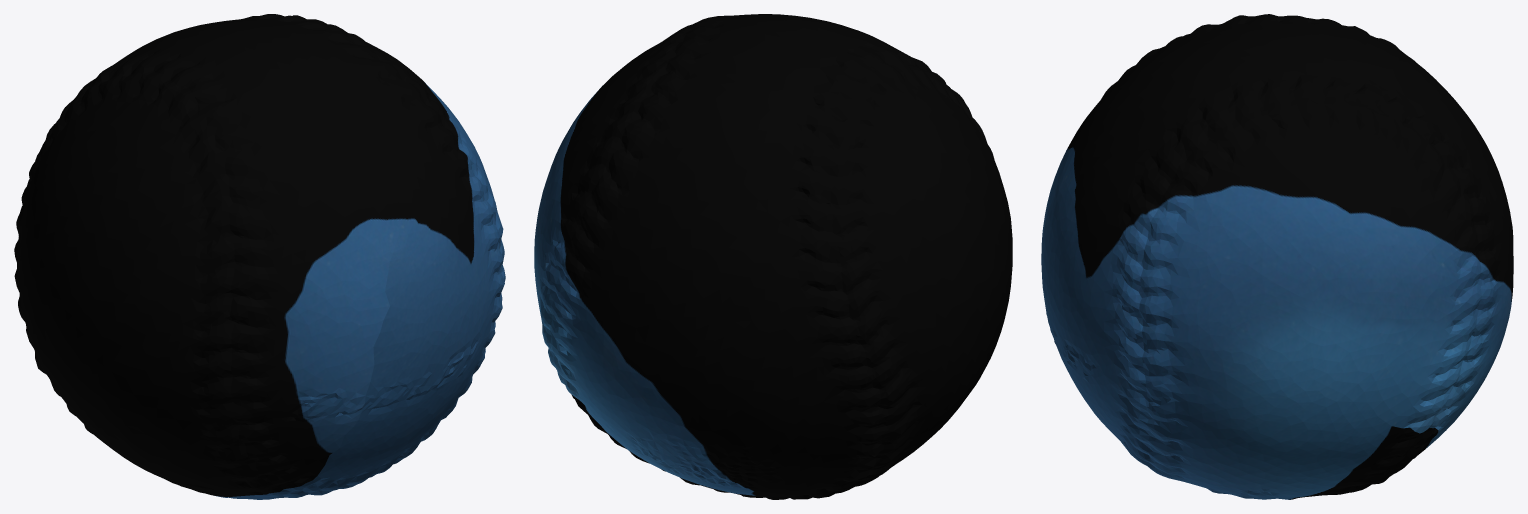
The picture shows the model from 3 angles, left to right: view 1: azimuth 30°, elevation 25°; view 2: azimuth 150°, elevation 25°; view 3: azimuth 270°, elevation 25°; orthographic projection.
Visible parts, largest first — view 1: node; view 2: node; view 3: node.
Boxes of the visible parts, x1,y1,x2,y2 form: node: [14, 14, 505, 499]; node: [534, 14, 1012, 499]; node: [1041, 14, 1513, 499].
Size of the model in its own units: 0.0954 by 0.0962 by 0.0946.
